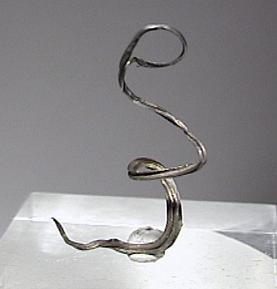silver: (54, 25, 208, 258)
